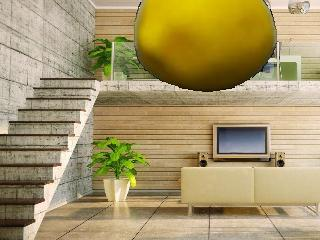lemon: (134, 0, 276, 92)
